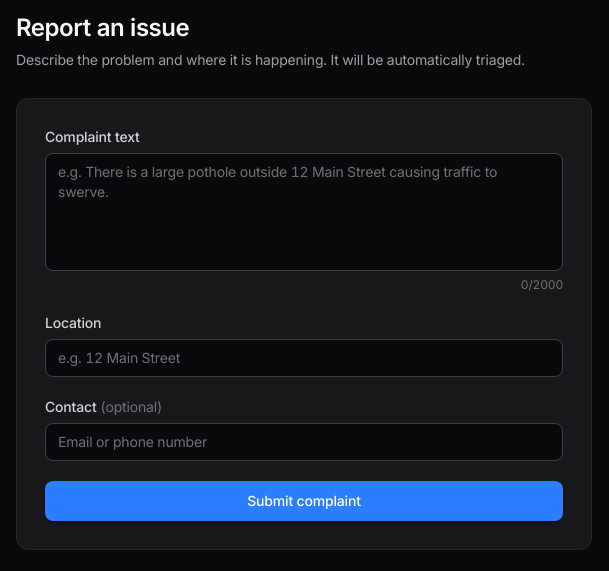
Test case: SubmitPage › shows client-side validation errors for text that is too short
The image size is (609, 571).
Type "too short" into the text box labelled "Complaint text" at (304, 212), box [45,153,563,271]
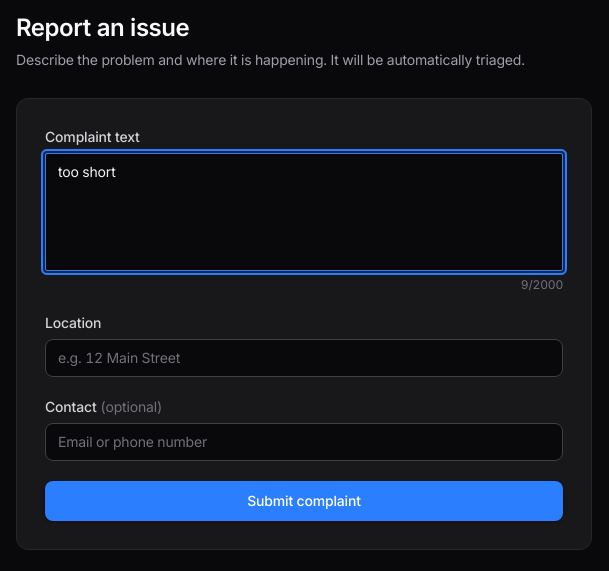
Type "ok location" into the field labelled "Location" at (304, 358), box [45,339,563,377]
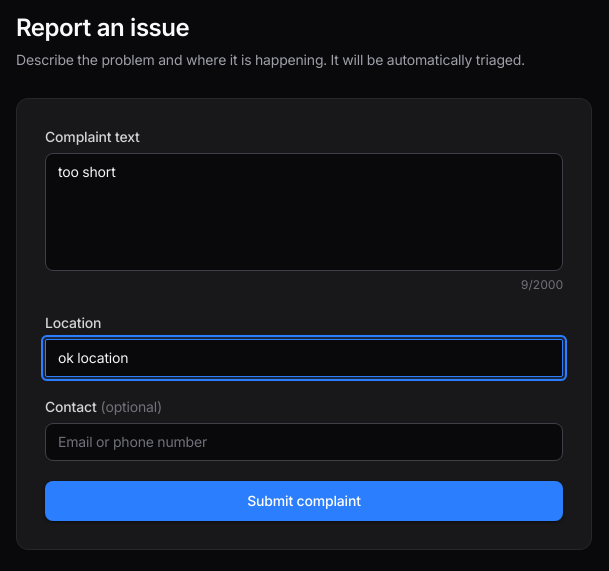
Click the button "Submit complaint" at (304, 501), box [45,481,563,521]
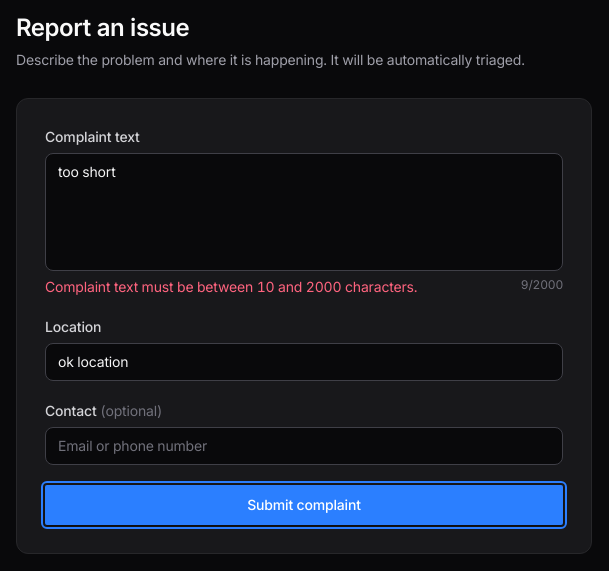
Expected: the text "Complaint text must be between 10 and 2000 characters." is shown, [45,277,417,297]
